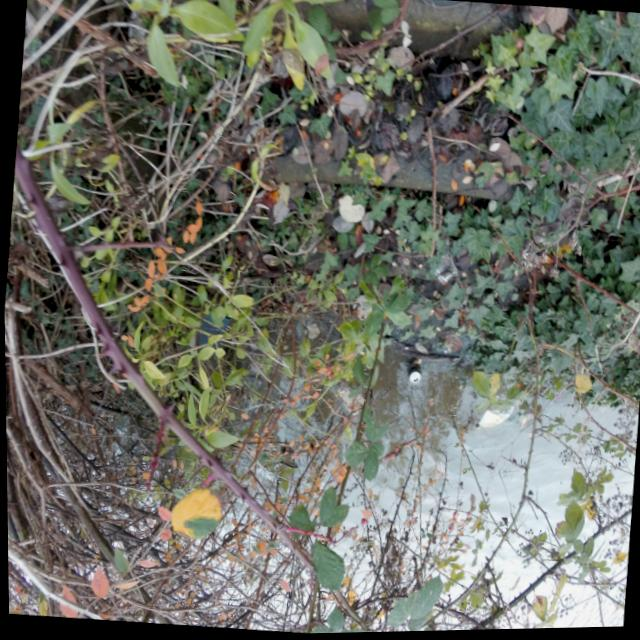Can-Metal: (401, 358, 425, 391)
Plastic: (330, 376, 368, 428)
